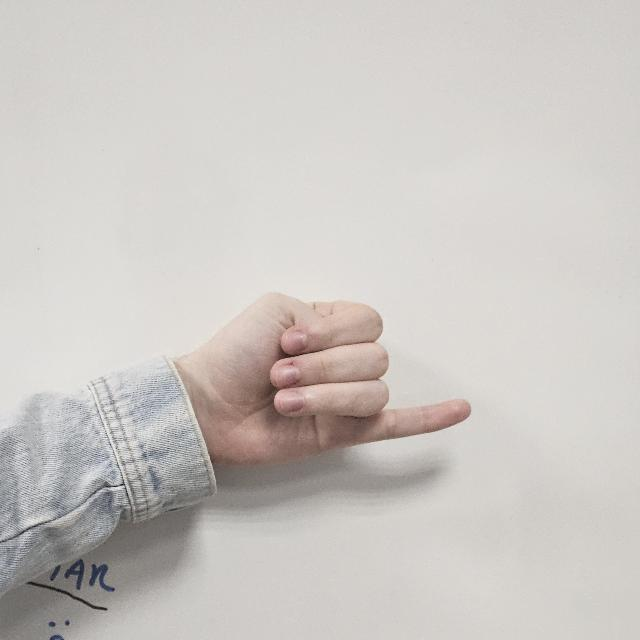Esquerda: (202, 261, 478, 467)
